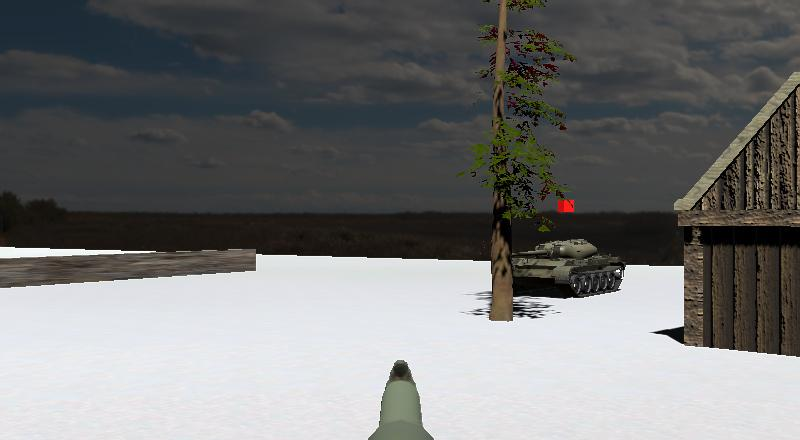House: (646, 44, 800, 378)
Tank: (497, 229, 633, 309)
